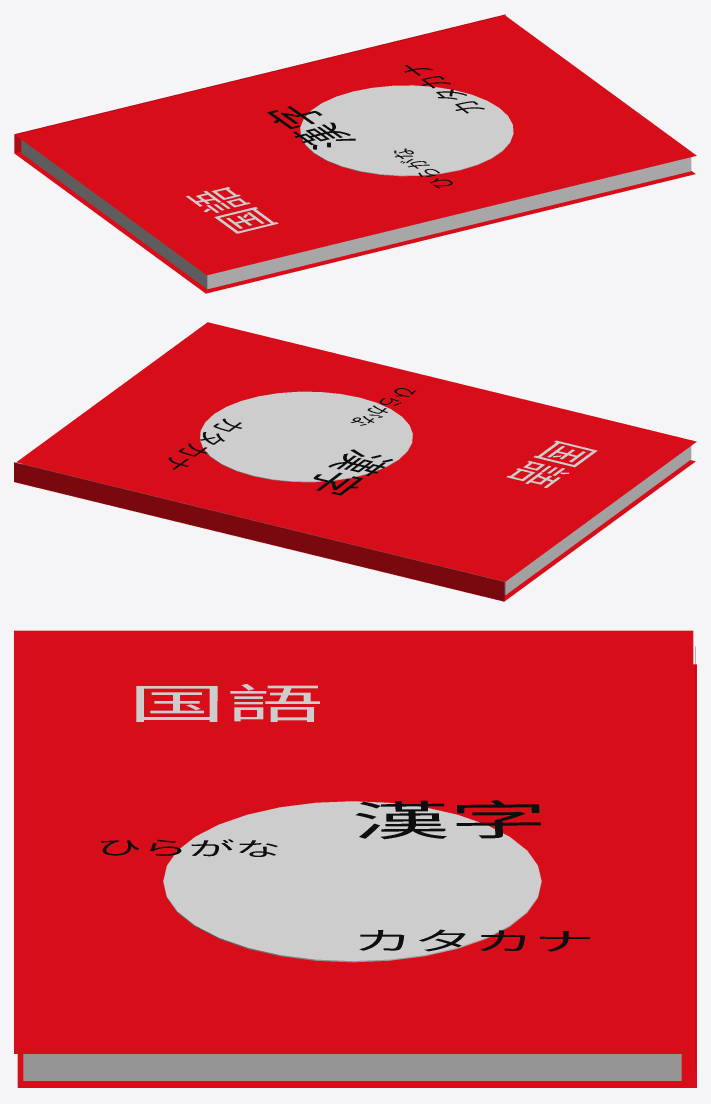
File: kokugo.fbx
3 renders of one model, top to bottom at view 1: azimuth 30°, elevation 25°; view 2: azimuth 150°, elevation 25°; view 3: azimuth 270°, elevation 25°, orthographic. The views are drawn at different scales.
Visible parts, largest first — view 1: 平面.001, 円柱, Cube, 平面.004, テキスト, テキスト.001, 平面.003, テキスト.002; view 2: 平面.001, 円柱, 平面.003, Cube, 平面.004, テキスト, テキスト.001, テキスト.002; view 3: 平面.001, 円柱, Cube, 平面.004, テキスト, テキスト.001, テキスト.002, テキスト.003.
Boxes of the visible parts, bbox=[...] form: 平面.001: bbox=[15, 15, 696, 275]; 円柱: bbox=[300, 85, 513, 176]; Cube: bbox=[21, 140, 691, 289]; 平面.004: bbox=[14, 152, 695, 293]; テキスト: bbox=[186, 187, 278, 233]; テキスト.001: bbox=[267, 106, 355, 149]; 平面.003: bbox=[14, 14, 505, 153]; テキスト.002: bbox=[404, 65, 484, 113]; 平面.001: bbox=[16, 322, 696, 581]; 円柱: bbox=[200, 391, 412, 482]; 平面.003: bbox=[14, 462, 504, 601]; Cube: bbox=[23, 446, 691, 594]; 平面.004: bbox=[15, 460, 695, 601]; テキスト: bbox=[506, 440, 597, 487]; テキスト.001: bbox=[313, 449, 392, 495]; テキスト.002: bbox=[168, 418, 241, 469]; 平面.001: bbox=[14, 630, 693, 1053]; 円柱: bbox=[163, 801, 541, 962]; Cube: bbox=[23, 1054, 681, 1080]; 平面.004: bbox=[17, 664, 696, 1087]; テキスト: bbox=[136, 684, 319, 721]; テキスト.001: bbox=[355, 800, 540, 839]; テキスト.002: bbox=[359, 929, 589, 951]; テキスト.003: bbox=[101, 839, 277, 856].
Size of the model in its own units: 1027 by 51.97 by 698.
